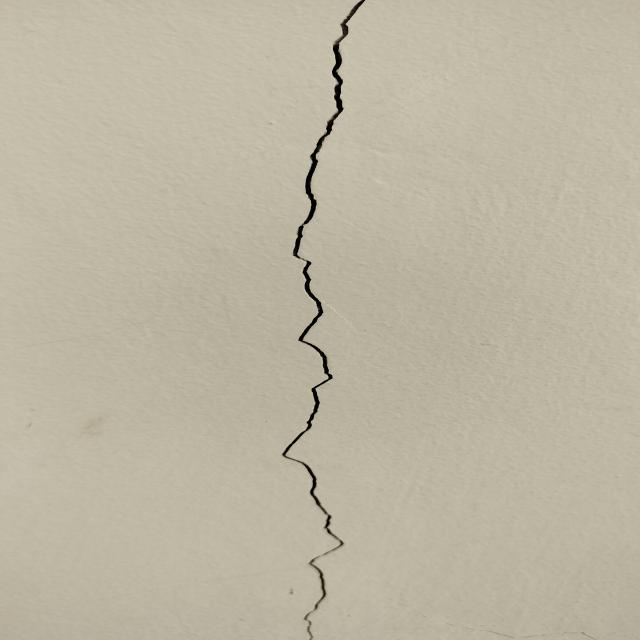Crack: (272, 0, 366, 640)
